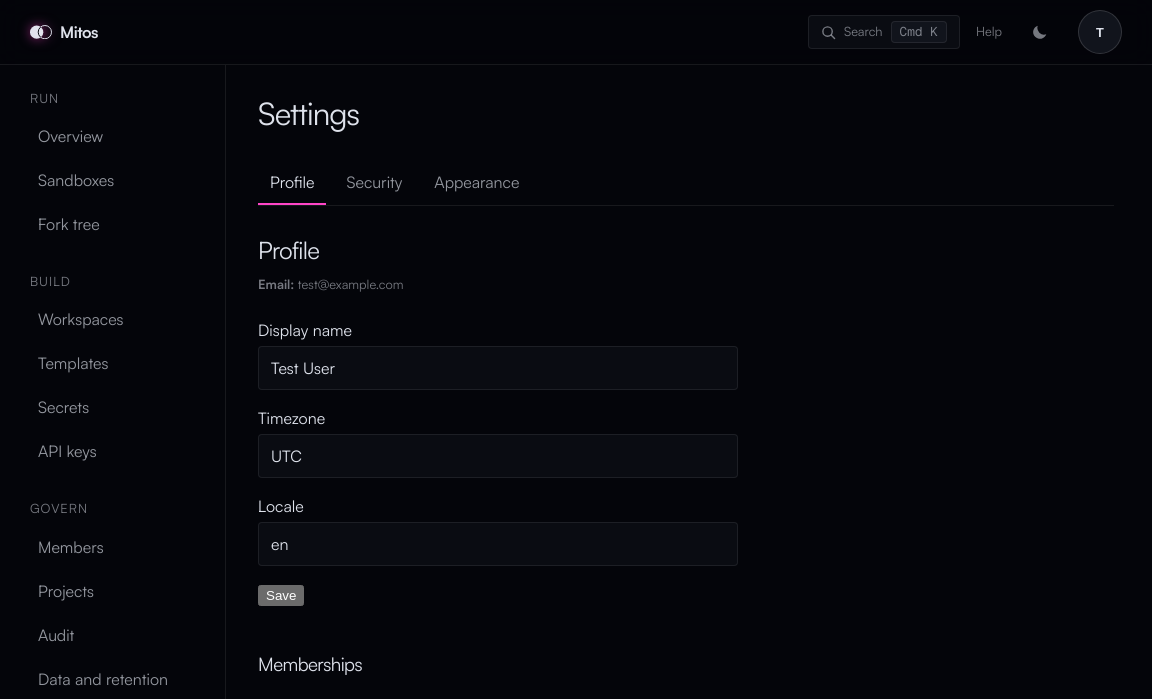
Test: Settings accessibility › has no axe violations on the Security tab
Expected: the heading "Settings" is shown, [258,97,359,129]
Click the tab "Security" at (374, 183), box [334,161,414,205]
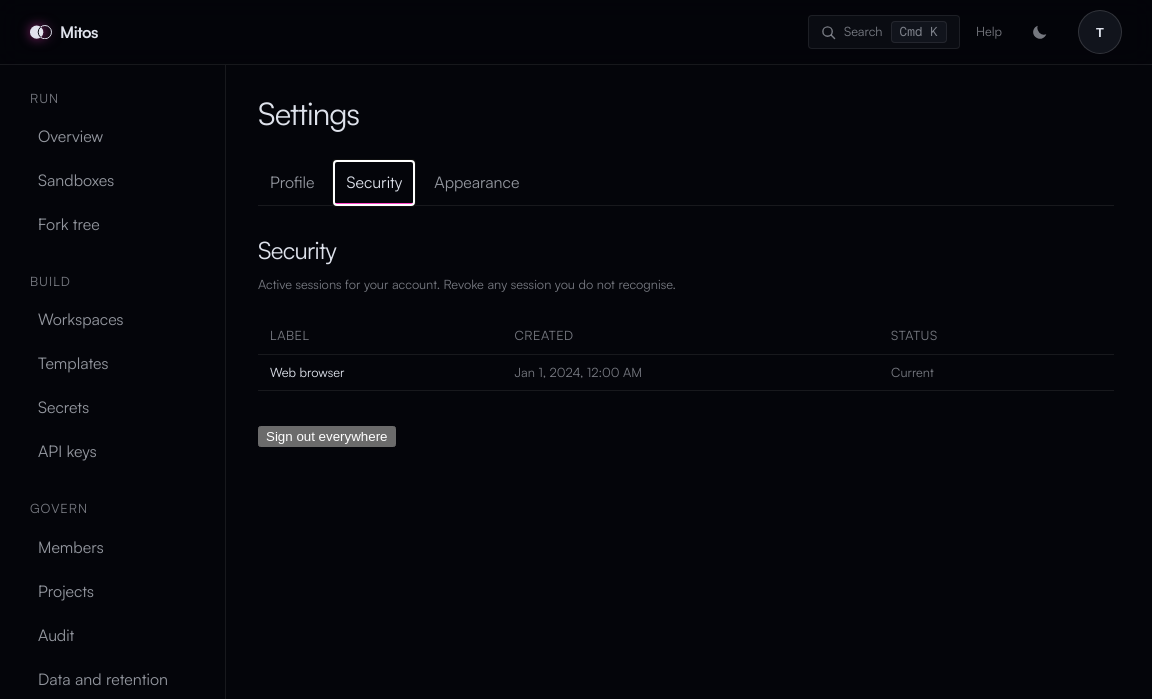
Expected: the table named "Sessions" is shown, [258,318,1114,391]
